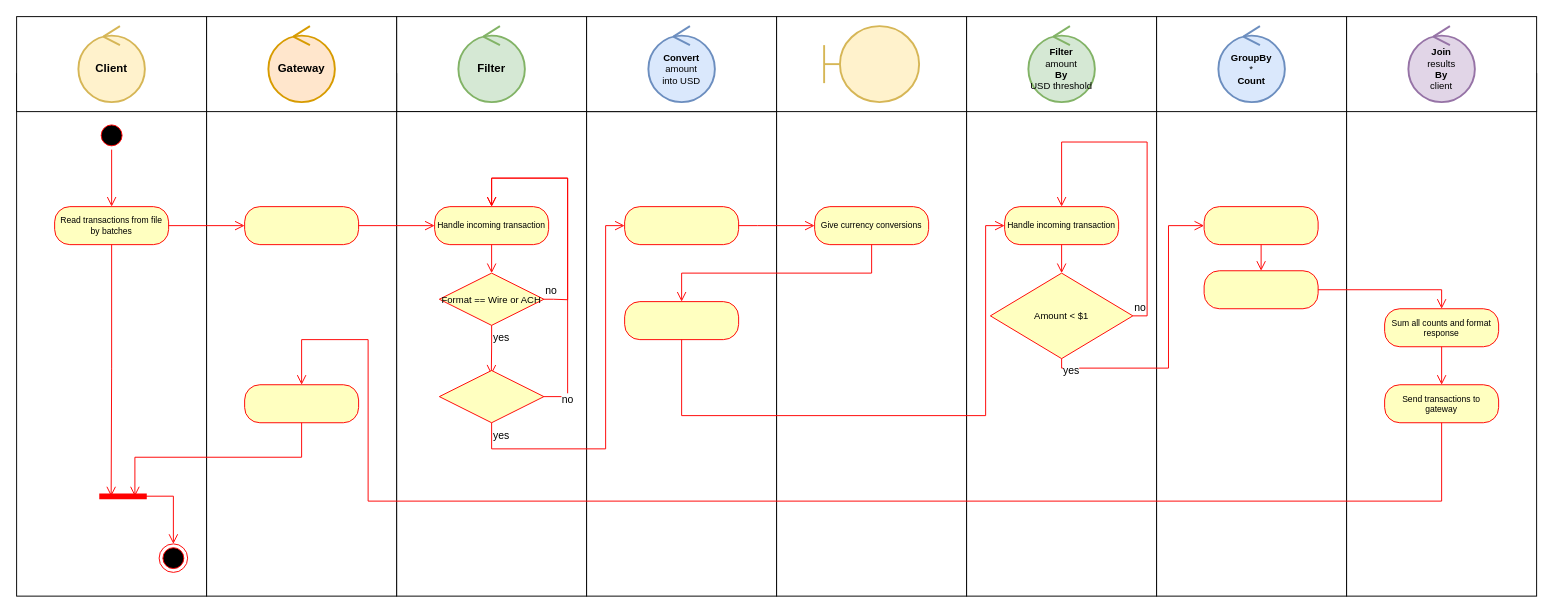
This 1553x613 diagram has some shape labels left out. The centre of each missing label's shape, as x and y in pixels:
Count transactions: point (1260, 225)
Date in period A: point (491, 396)
Form batch and request convertion API: point (681, 225)
Hash by client: point (1260, 289)
Redirect response to client: point (301, 403)
Redirect transaction batch to filters: point (301, 225)
Reformat transactions in US amounts: point (681, 320)
USD conversion external API: point (871, 64)
